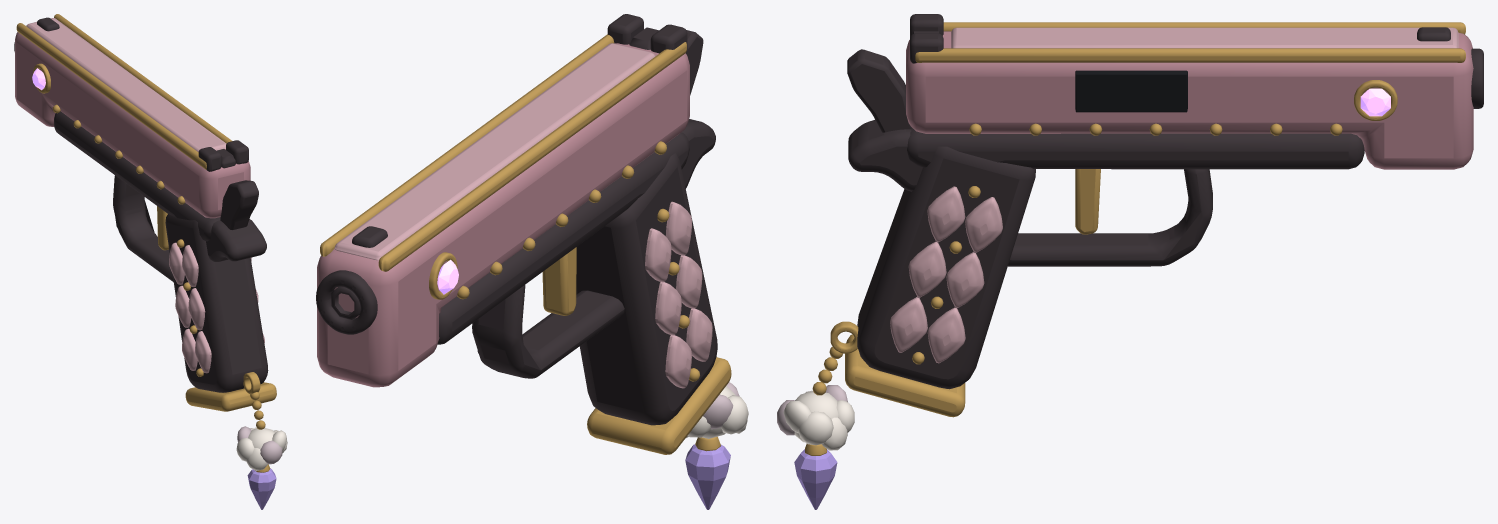
The model's file is w_pistol@pistol_cute_a.glb.
3 renders of one model, left to right at view 1: azimuth 30°, elevation 25°; view 2: azimuth 150°, elevation 25°; view 3: azimuth 270°, elevation 25°, orthographic. The views are drawn at different scales.
Visible parts, largest first — view 1: slide_wzA, grip_wzB, body_wzB, slide_wzN.002, slide_wzN.003, grip_wzA, mag_wzN, hammer_wzN, slide_wzN.001, grip_wzN.001, grip_wzN, grip_wzN.003 (+2 smaller); view 2: slide_wzA, grip_wzB, body_wzB, slide_wzN.002, slide_wzN.003, grip_wzA, slide_wzN.001, mag_wzN, grip_wzN.003, body_wzN, grip_wzN.001, grip_wzN (+3 smaller); view 3: slide_wzA, body_wzB, grip_wzB, slide_wzN.003, slide_wzN.002, grip_wzA, slide_wzN, mag_wzN, hammer_wzN, grip_wzN.001, slide_wzN.001, grip_wzN (+2 smaller).
Boxes of the visible parts, x1,y1,x2,y2 form: slide_wzA: [15, 32, 250, 218]; grip_wzB: [165, 214, 268, 392]; body_wzB: [54, 111, 220, 281]; slide_wzN.002: [26, 18, 226, 151]; slide_wzN.003: [16, 14, 232, 204]; grip_wzA: [169, 242, 264, 373]; mag_wzN: [185, 382, 276, 411]; hammer_wzN: [220, 180, 258, 229]; slide_wzN.001: [14, 17, 248, 171]; grip_wzN.001: [236, 427, 287, 470]; grip_wzN: [177, 239, 270, 472]; grip_wzN.003: [247, 468, 276, 509]; slide_wzA: [317, 43, 689, 387]; grip_wzB: [576, 119, 717, 425]; body_wzB: [331, 132, 689, 378]; slide_wzN.002: [334, 43, 655, 260]; slide_wzN.003: [320, 34, 686, 299]; grip_wzA: [645, 201, 712, 388]; slide_wzN.001: [316, 14, 687, 334]; mag_wzN: [587, 357, 731, 454]; grip_wzN.003: [685, 444, 730, 509]; body_wzN: [542, 247, 576, 315]; grip_wzN.001: [685, 385, 748, 438]; grip_wzN: [657, 208, 720, 451]; slide_wzA: [906, 31, 1473, 169]; body_wzB: [907, 128, 1364, 266]; grip_wzB: [848, 120, 1035, 389]; slide_wzN.003: [915, 22, 1465, 135]; slide_wzN.002: [951, 27, 1458, 48]; grip_wzA: [890, 186, 1002, 363]; slide_wzN: [1075, 70, 1187, 112]; mag_wzN: [845, 334, 965, 417]; hammer_wzN: [847, 49, 912, 132]; grip_wzN.001: [783, 390, 854, 450]; slide_wzN.001: [910, 14, 1483, 108]; grip_wzN: [805, 186, 980, 455].
Bounding box in the file's own units: 0.0586 × 0.2834 × 0.3761.
